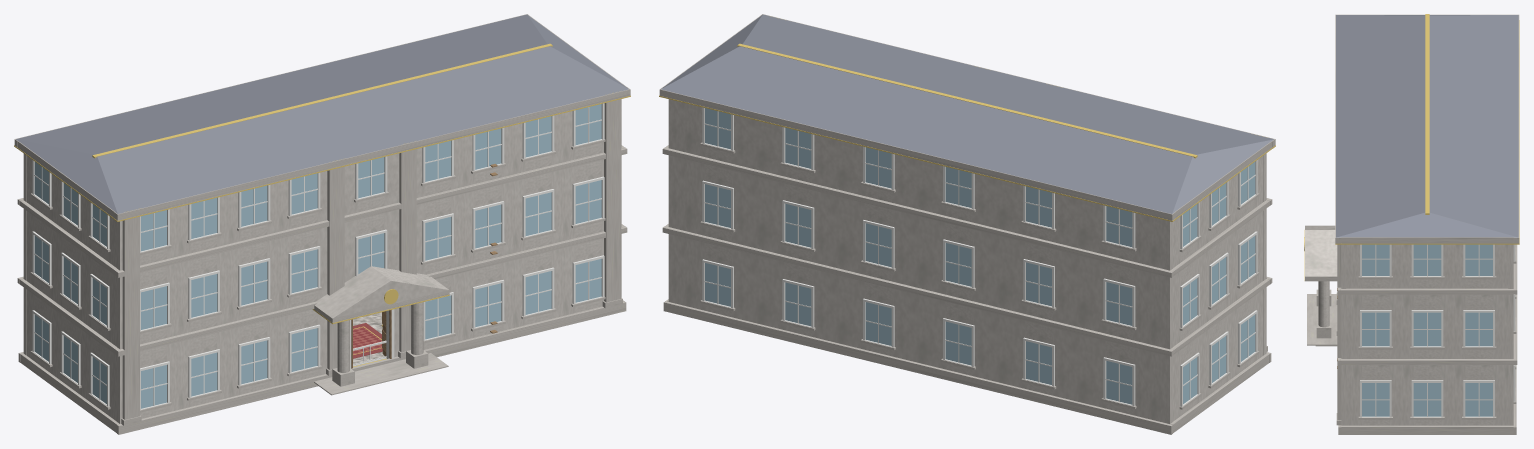
The model's file is gedung-utama-sekolah-v4.glb.
3 renders of one model, left to right at view 1: azimuth 30°, elevation 25°; view 2: azimuth 150°, elevation 25°; view 3: azimuth 270°, elevation 25°, orthographic. The views are drawn at different scales.
Parts seen in each view (by area): view 1: Amb_atas_-10, Atap, AnakTangga0, WinGlass, Amb_atas_-11, AmbangPintu; view 2: Amb_atas_-10, Atap, AnakTangga0, WinGlass, Amb_atas_-11, AmbangPintu; view 3: Atap, Amb_atas_-10, AnakTangga0, WinGlass, Amb_atas_-11, AmbangPintu.
Boxes of the visible parts, x1=… form: Amb_atas_-10: x1=23, y1=99, x2=621, y2=423; Atap: x1=16, y1=14, x2=628, y2=213; AnakTangga0: x1=14, y1=14, x2=630, y2=434; WinGlass: x1=34, y1=104, x2=601, y2=408; Amb_atas_-11: x1=32, y1=103, x2=604, y2=409; AmbangPintu: x1=14, y1=43, x2=630, y2=367; Amb_atas_-10: x1=668, y1=99, x2=1266, y2=423; Atap: x1=661, y1=14, x2=1273, y2=213; AnakTangga0: x1=659, y1=14, x2=1275, y2=434; WinGlass: x1=705, y1=108, x2=1255, y2=404; Amb_atas_-11: x1=702, y1=107, x2=1257, y2=406; AmbangPintu: x1=659, y1=43, x2=1275, y2=221; Atap: x1=1336, y1=15, x2=1518, y2=237; Amb_atas_-10: x1=1305, y1=225, x2=1513, y2=425; AnakTangga0: x1=1305, y1=14, x2=1519, y2=434; WinGlass: x1=1362, y1=244, x2=1492, y2=416; Amb_atas_-11: x1=1360, y1=244, x2=1515, y2=417; AmbangPintu: x1=1304, y1=14, x2=1519, y2=280.
Size of the model in its own units: 30.72 by 13.57 by 12.5.
Materials: 27 (7 with a texture image).
